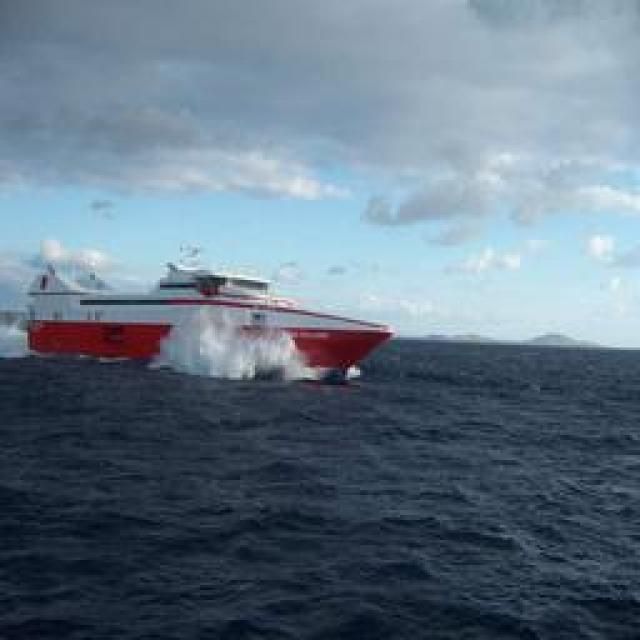CIV_Ship: (31, 251, 391, 381)
